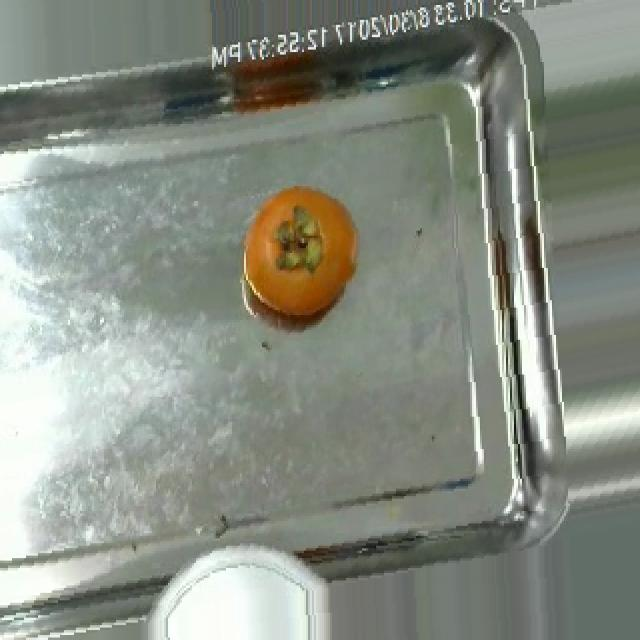Fruit: (236, 176, 366, 328)
